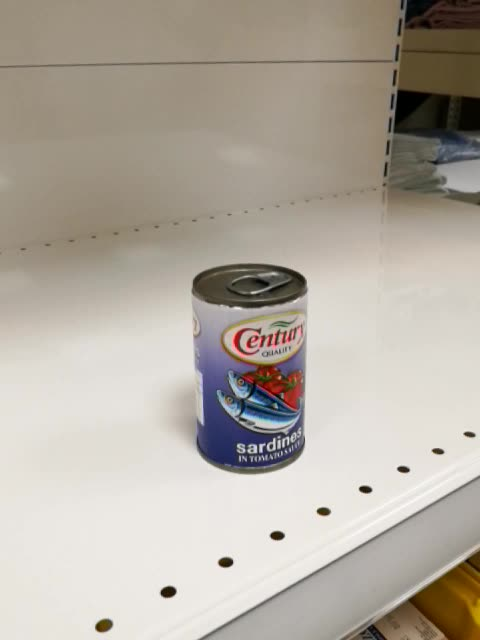sardine: (189, 261, 307, 475)
